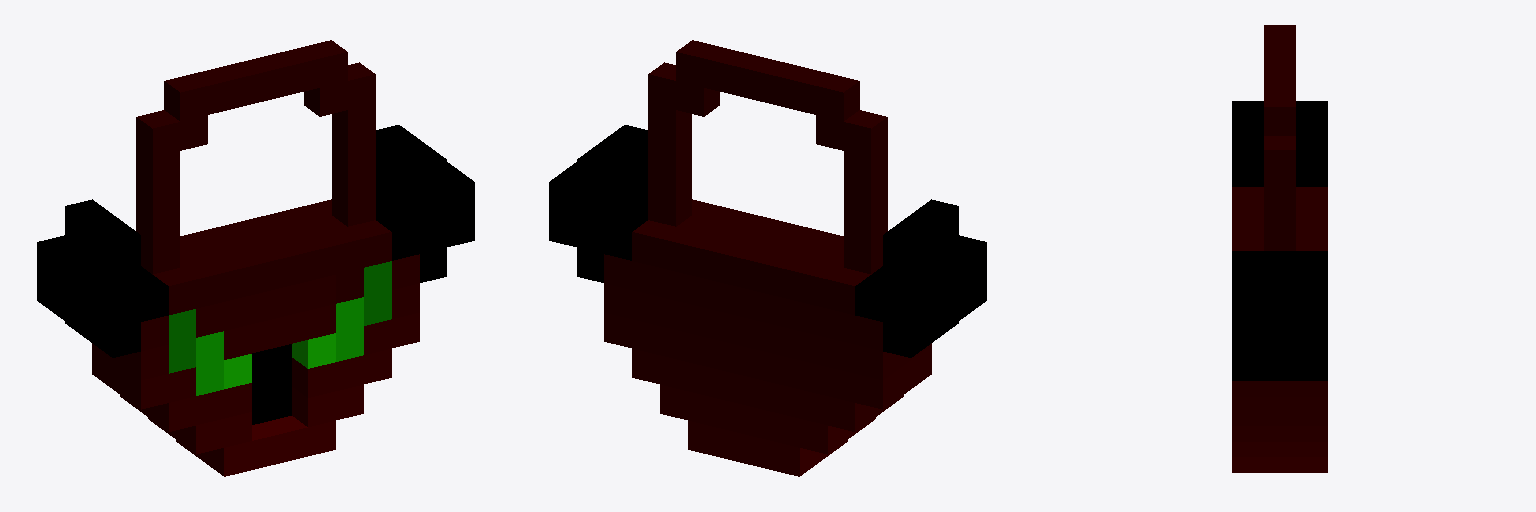
3 views of the same model, side by side, from view 1: azimuth 30°, elevation 25°; view 2: azimuth 150°, elevation 25°; view 3: azimuth 270°, elevation 25° (orthographic).
Visible parts, largest first — view 1: object 1; view 2: object 1; view 3: object 1.
Part boxes in pixels (x1,y1,x2,y2): object 1: (37,40,474,476); object 1: (549,40,986,476); object 1: (1232,25,1327,472).
Size of the model in its own units: 1.4 by 1.3 by 0.3.
1 materials, 1 textured.